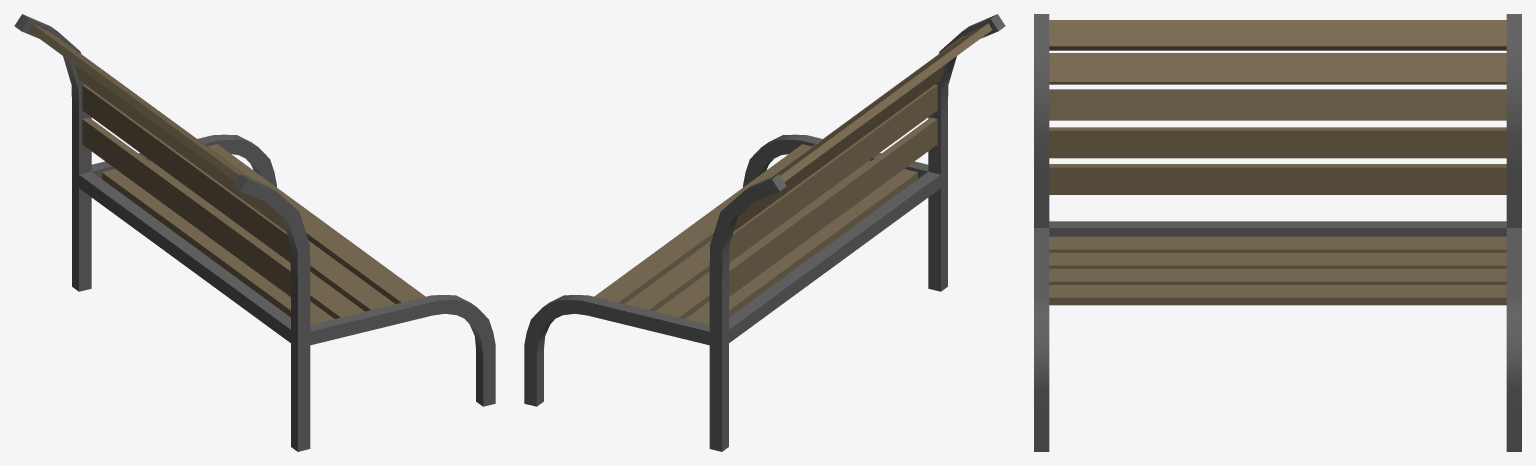
File: banc01.fbx
The picture shows the model from 3 angles, left to right: view 1: azimuth 30°, elevation 25°; view 2: azimuth 150°, elevation 25°; view 3: azimuth 270°, elevation 25°; orthographic projection. The views are drawn at different scales.
Parts seen in each view (by area): view 1: banc; view 2: banc; view 3: banc.
Part boxes in pixels (<box>): banc: <box>14,14,495,451</box>; banc: <box>524,14,1005,451</box>; banc: <box>1034,14,1521,451</box>.
Size of the model in its own units: 21.01 by 22.37 by 32.15.
